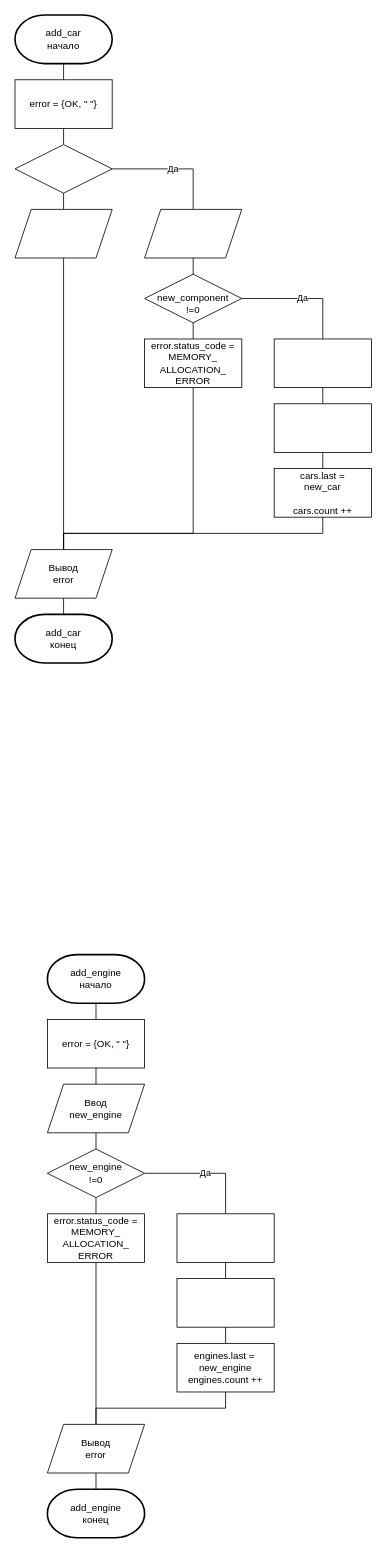
This 386x1552 diagram has some shape labels left out. Here are the shapes that lost their labels. From the top down, the box of each, then its label:
(14, 144, 112, 193): engines.count !=0
(14, 209, 112, 258): Вывод ошибки
(144, 209, 242, 258): Ввод new_car
(273, 338, 371, 388): следующий элемент (cars.last) = new_car
(273, 403, 371, 452): new_car.id = cars.last.id + 1
(176, 1213, 274, 1262): следующий элемент (engines.last) = new_engine
(176, 1278, 274, 1327): new_engine.id = engines.last.id + 1
